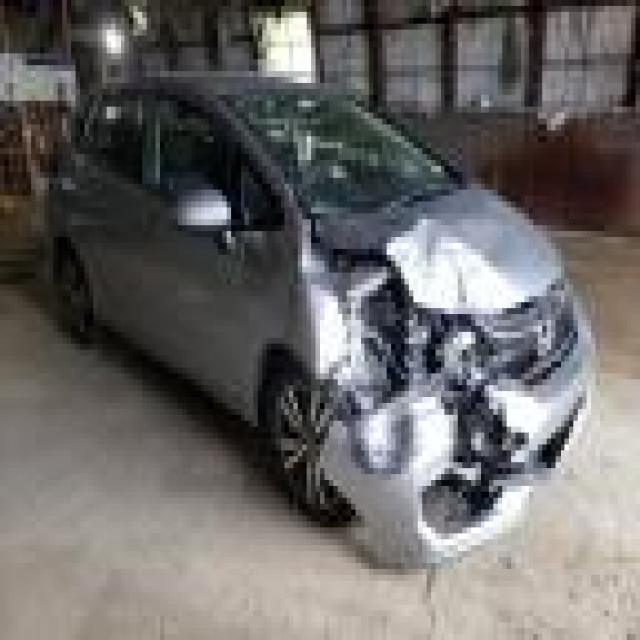moderate: (290, 205, 614, 597)
